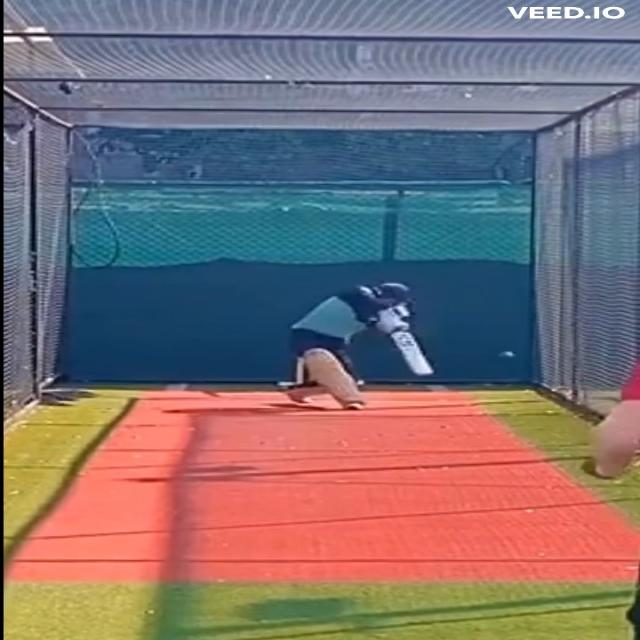ball: (498, 349, 523, 361)
